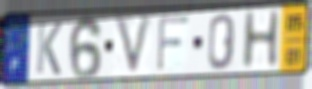0: (206, 11, 237, 73)
6: (67, 13, 105, 81)
F: (155, 13, 192, 74)
H: (239, 9, 282, 73)
K: (34, 20, 64, 77)
V: (112, 11, 156, 79)
